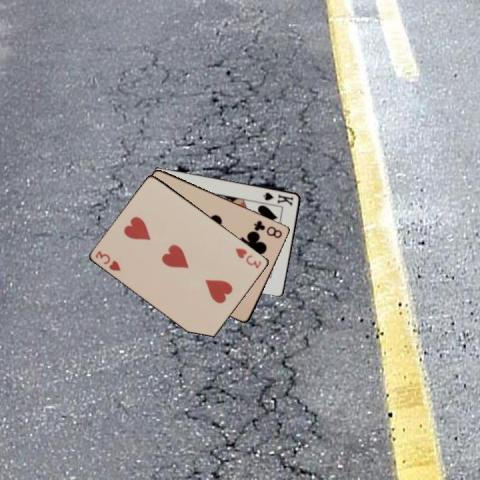3h: (92, 247, 123, 273), (233, 245, 263, 270)
8c: (251, 218, 284, 239)
Ks: (260, 189, 295, 207)
